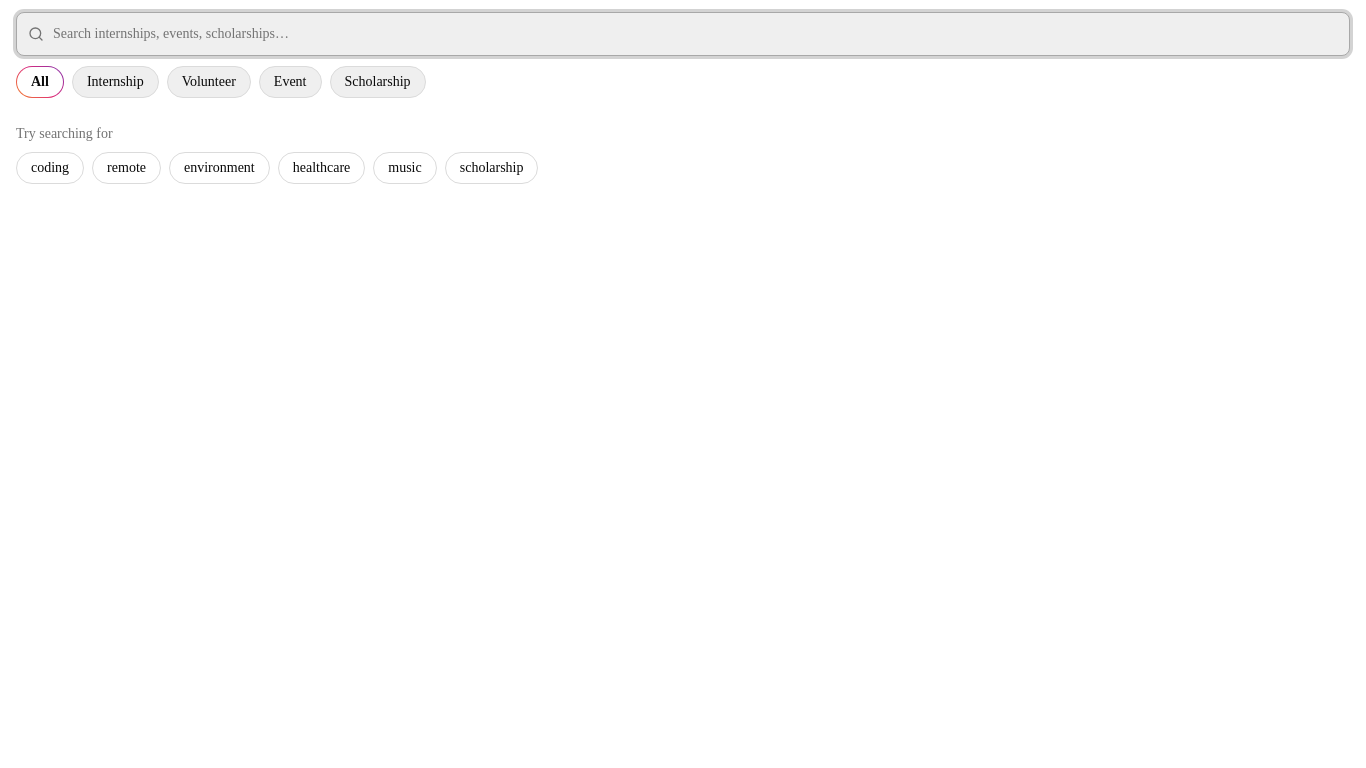
search › a suggestion chip runs that search
Click the button "coding". click: point(50, 168)
box: [16,152,84,184]
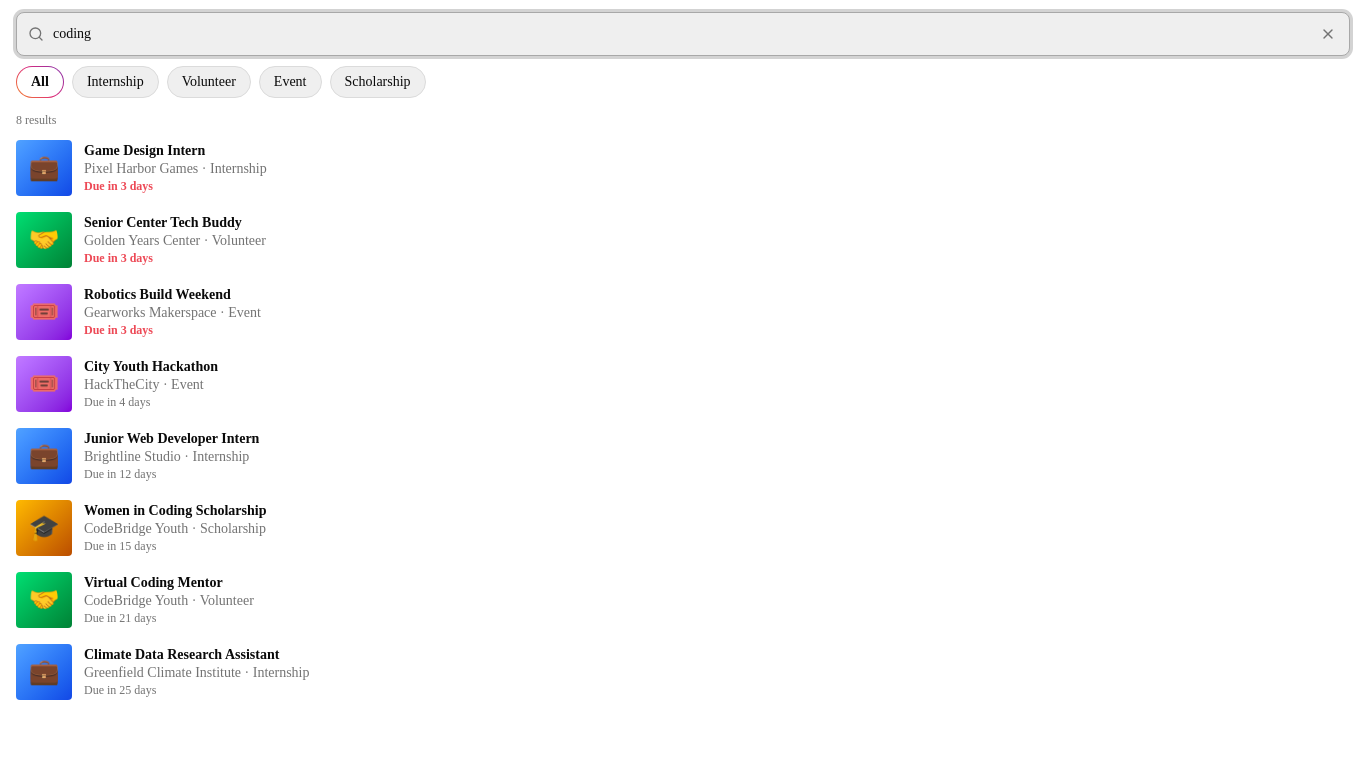
Expected: the text "City Youth Hackathon" is shown, [84,359,218,374]
